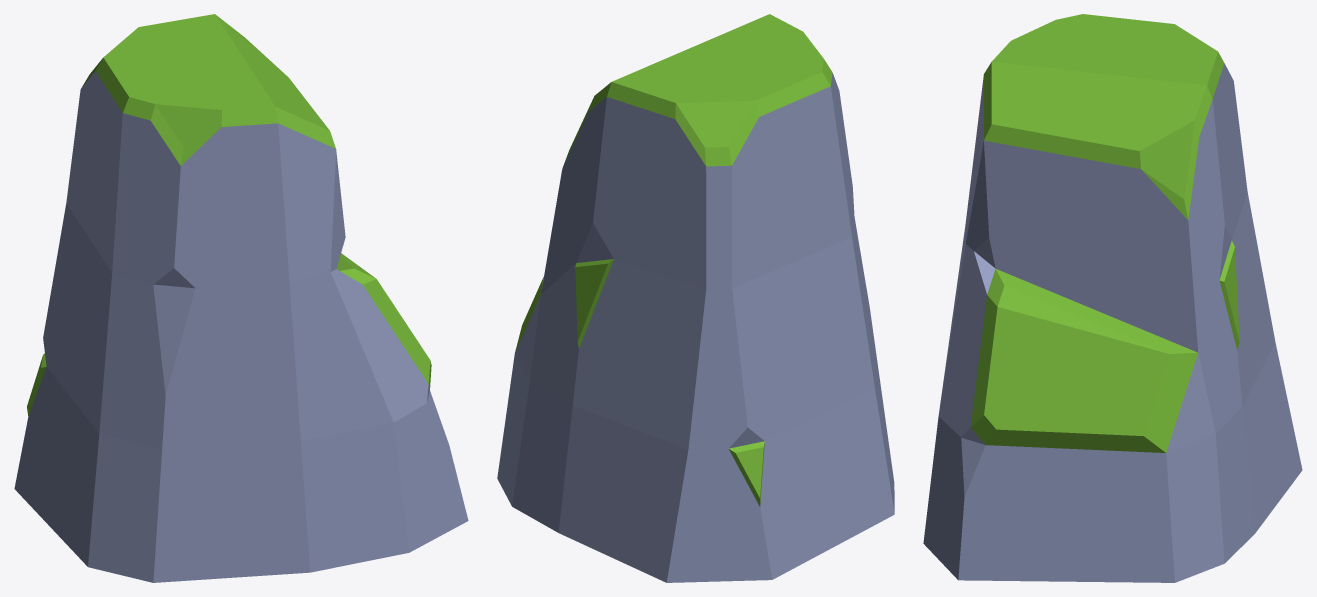
Rendered from Rock_40_1.fbx.
3 renders of one model, left to right at view 1: azimuth 30°, elevation 25°; view 2: azimuth 150°, elevation 25°; view 3: azimuth 270°, elevation 25°, orthographic. The views are drawn at different scales.
Visible parts, largest first — view 1: Rock_40_1; view 2: Rock_40_1; view 3: Rock_40_1.
Boxes of the visible parts, bbox=[...] form: Rock_40_1: bbox=[14, 14, 468, 582]; Rock_40_1: bbox=[497, 14, 894, 582]; Rock_40_1: bbox=[923, 14, 1302, 582].
Bounding box in the file's own units: 1.78 × 2.24 × 1.77.
